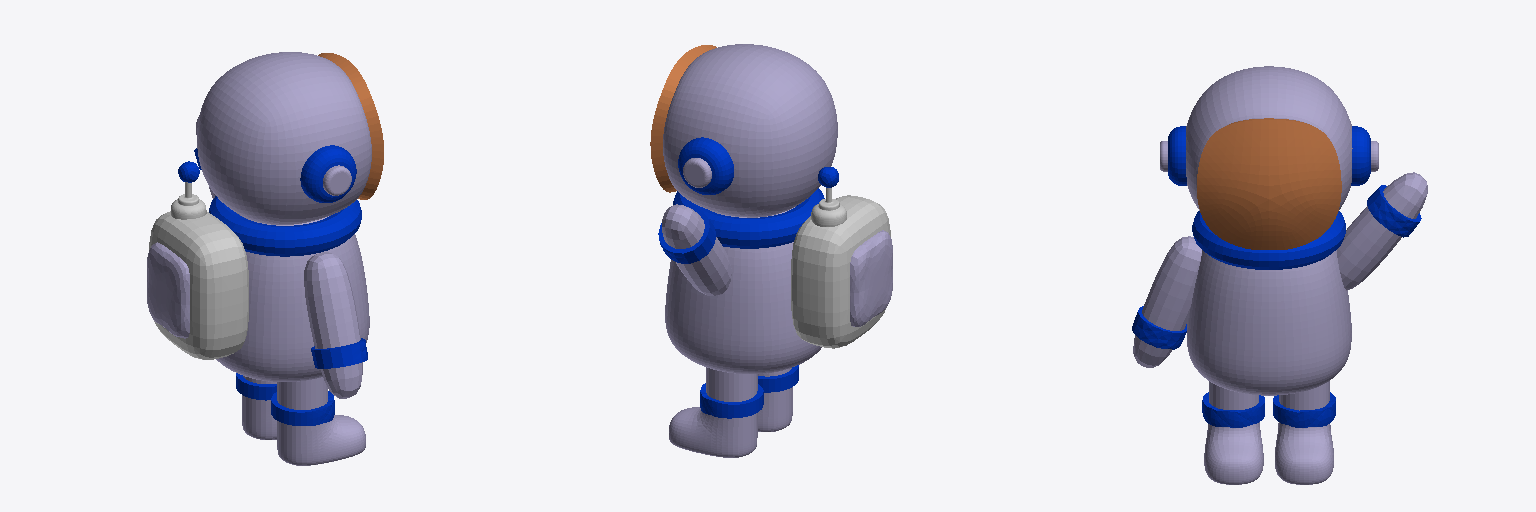
File: astronout.obj
3 views of the same model, side by side, from view 1: azimuth 30°, elevation 25°; view 2: azimuth 150°, elevation 25°; view 3: azimuth 270°, elevation 25° (orthographic).
Parts seen in each view (by area): view 1: Head, Body, Bag, Legs, Hands.001, Torus, Cube.008, Glass, Cube.003, Cylinder.001, Cube.012, Cylinder (+1 smaller); view 2: Head, Body, Bag, Legs, Cube.008, Torus, Hands, Glass, Cube.003, Cylinder.001, Cube.005, Cylinder (+1 smaller); view 3: Body, Glass, Head, Legs, Hands, Hands.001, Torus, Cube.003, Cylinder.001, Cube.005, Cube.012.
Boxes of the visible parts, x1=… form: Head: x1=197, y1=52, x2=371, y2=224; Body: x1=216, y1=213, x2=369, y2=381; Bag: x1=149, y1=211, x2=248, y2=359; Legs: x1=242, y1=376, x2=365, y2=465; Hands.001: x1=304, y1=252, x2=362, y2=398; Torus: x1=209, y1=196, x2=361, y2=256; Cube.008: x1=147, y1=242, x2=189, y2=338; Glass: x1=318, y1=53, x2=383, y2=199; Cube.003: x1=236, y1=373, x2=334, y2=425; Cylinder.001: x1=300, y1=145, x2=356, y2=202; Cube.012: x1=311, y1=338, x2=367, y2=368; Cylinder: x1=171, y1=182, x2=206, y2=219; Head: x1=663, y1=44, x2=837, y2=217; Body: x1=665, y1=207, x2=821, y2=373; Bag: x1=791, y1=195, x2=890, y2=348; Legs: x1=669, y1=367, x2=792, y2=457; Cube.008: x1=850, y1=230, x2=892, y2=326; Torus: x1=673, y1=188, x2=824, y2=248; Hands: x1=662, y1=204, x2=731, y2=295; Glass: x1=650, y1=45, x2=716, y2=192; Cube.003: x1=700, y1=365, x2=798, y2=418; Cylinder.001: x1=678, y1=137, x2=733, y2=194; Cube.005: x1=658, y1=207, x2=715, y2=263; Cylinder: x1=811, y1=188, x2=846, y2=226; Body: x1=1187, y1=250, x2=1351, y2=395; Glass: x1=1197, y1=118, x2=1341, y2=249; Head: x1=1186, y1=66, x2=1352, y2=211; Legs: x1=1204, y1=381, x2=1333, y2=484; Hands: x1=1337, y1=172, x2=1427, y2=290; Hands.001: x1=1133, y1=236, x2=1201, y2=367; Torus: x1=1192, y1=211, x2=1345, y2=269; Cube.003: x1=1202, y1=392, x2=1335, y2=427; Cylinder.001: x1=1168, y1=126, x2=1370, y2=185; Cube.005: x1=1367, y1=185, x2=1421, y2=237; Cube.012: x1=1132, y1=306, x2=1186, y2=349.
Size of the model in its own units: 1.99 by 3.56 by 2.49.